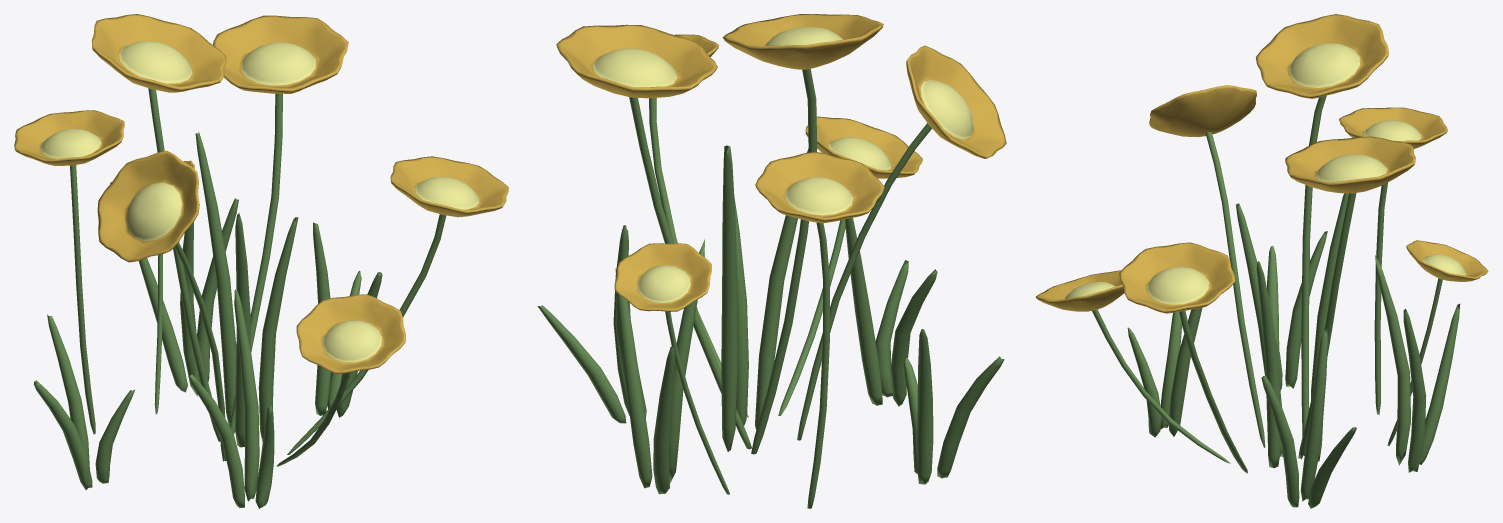
Rendered from flower1 smoothed.fbx.
3 views of the same model, side by side, from view 1: azimuth 30°, elevation 25°; view 2: azimuth 150°, elevation 25°; view 3: azimuth 270°, elevation 25° (orthographic). The views are drawn at different scales.
Visible parts, largest first — view 1: DesertMarigold:DesertMarigold_mesh; view 2: DesertMarigold:DesertMarigold_mesh; view 3: DesertMarigold:DesertMarigold_mesh.
Boxes of the visible parts, x1,y1,x2,y2 form: DesertMarigold:DesertMarigold_mesh: (14, 14, 508, 508); DesertMarigold:DesertMarigold_mesh: (537, 14, 1006, 508); DesertMarigold:DesertMarigold_mesh: (1035, 14, 1488, 508).
Size of the model in its own units: 6.54 by 6.16 by 6.46.
